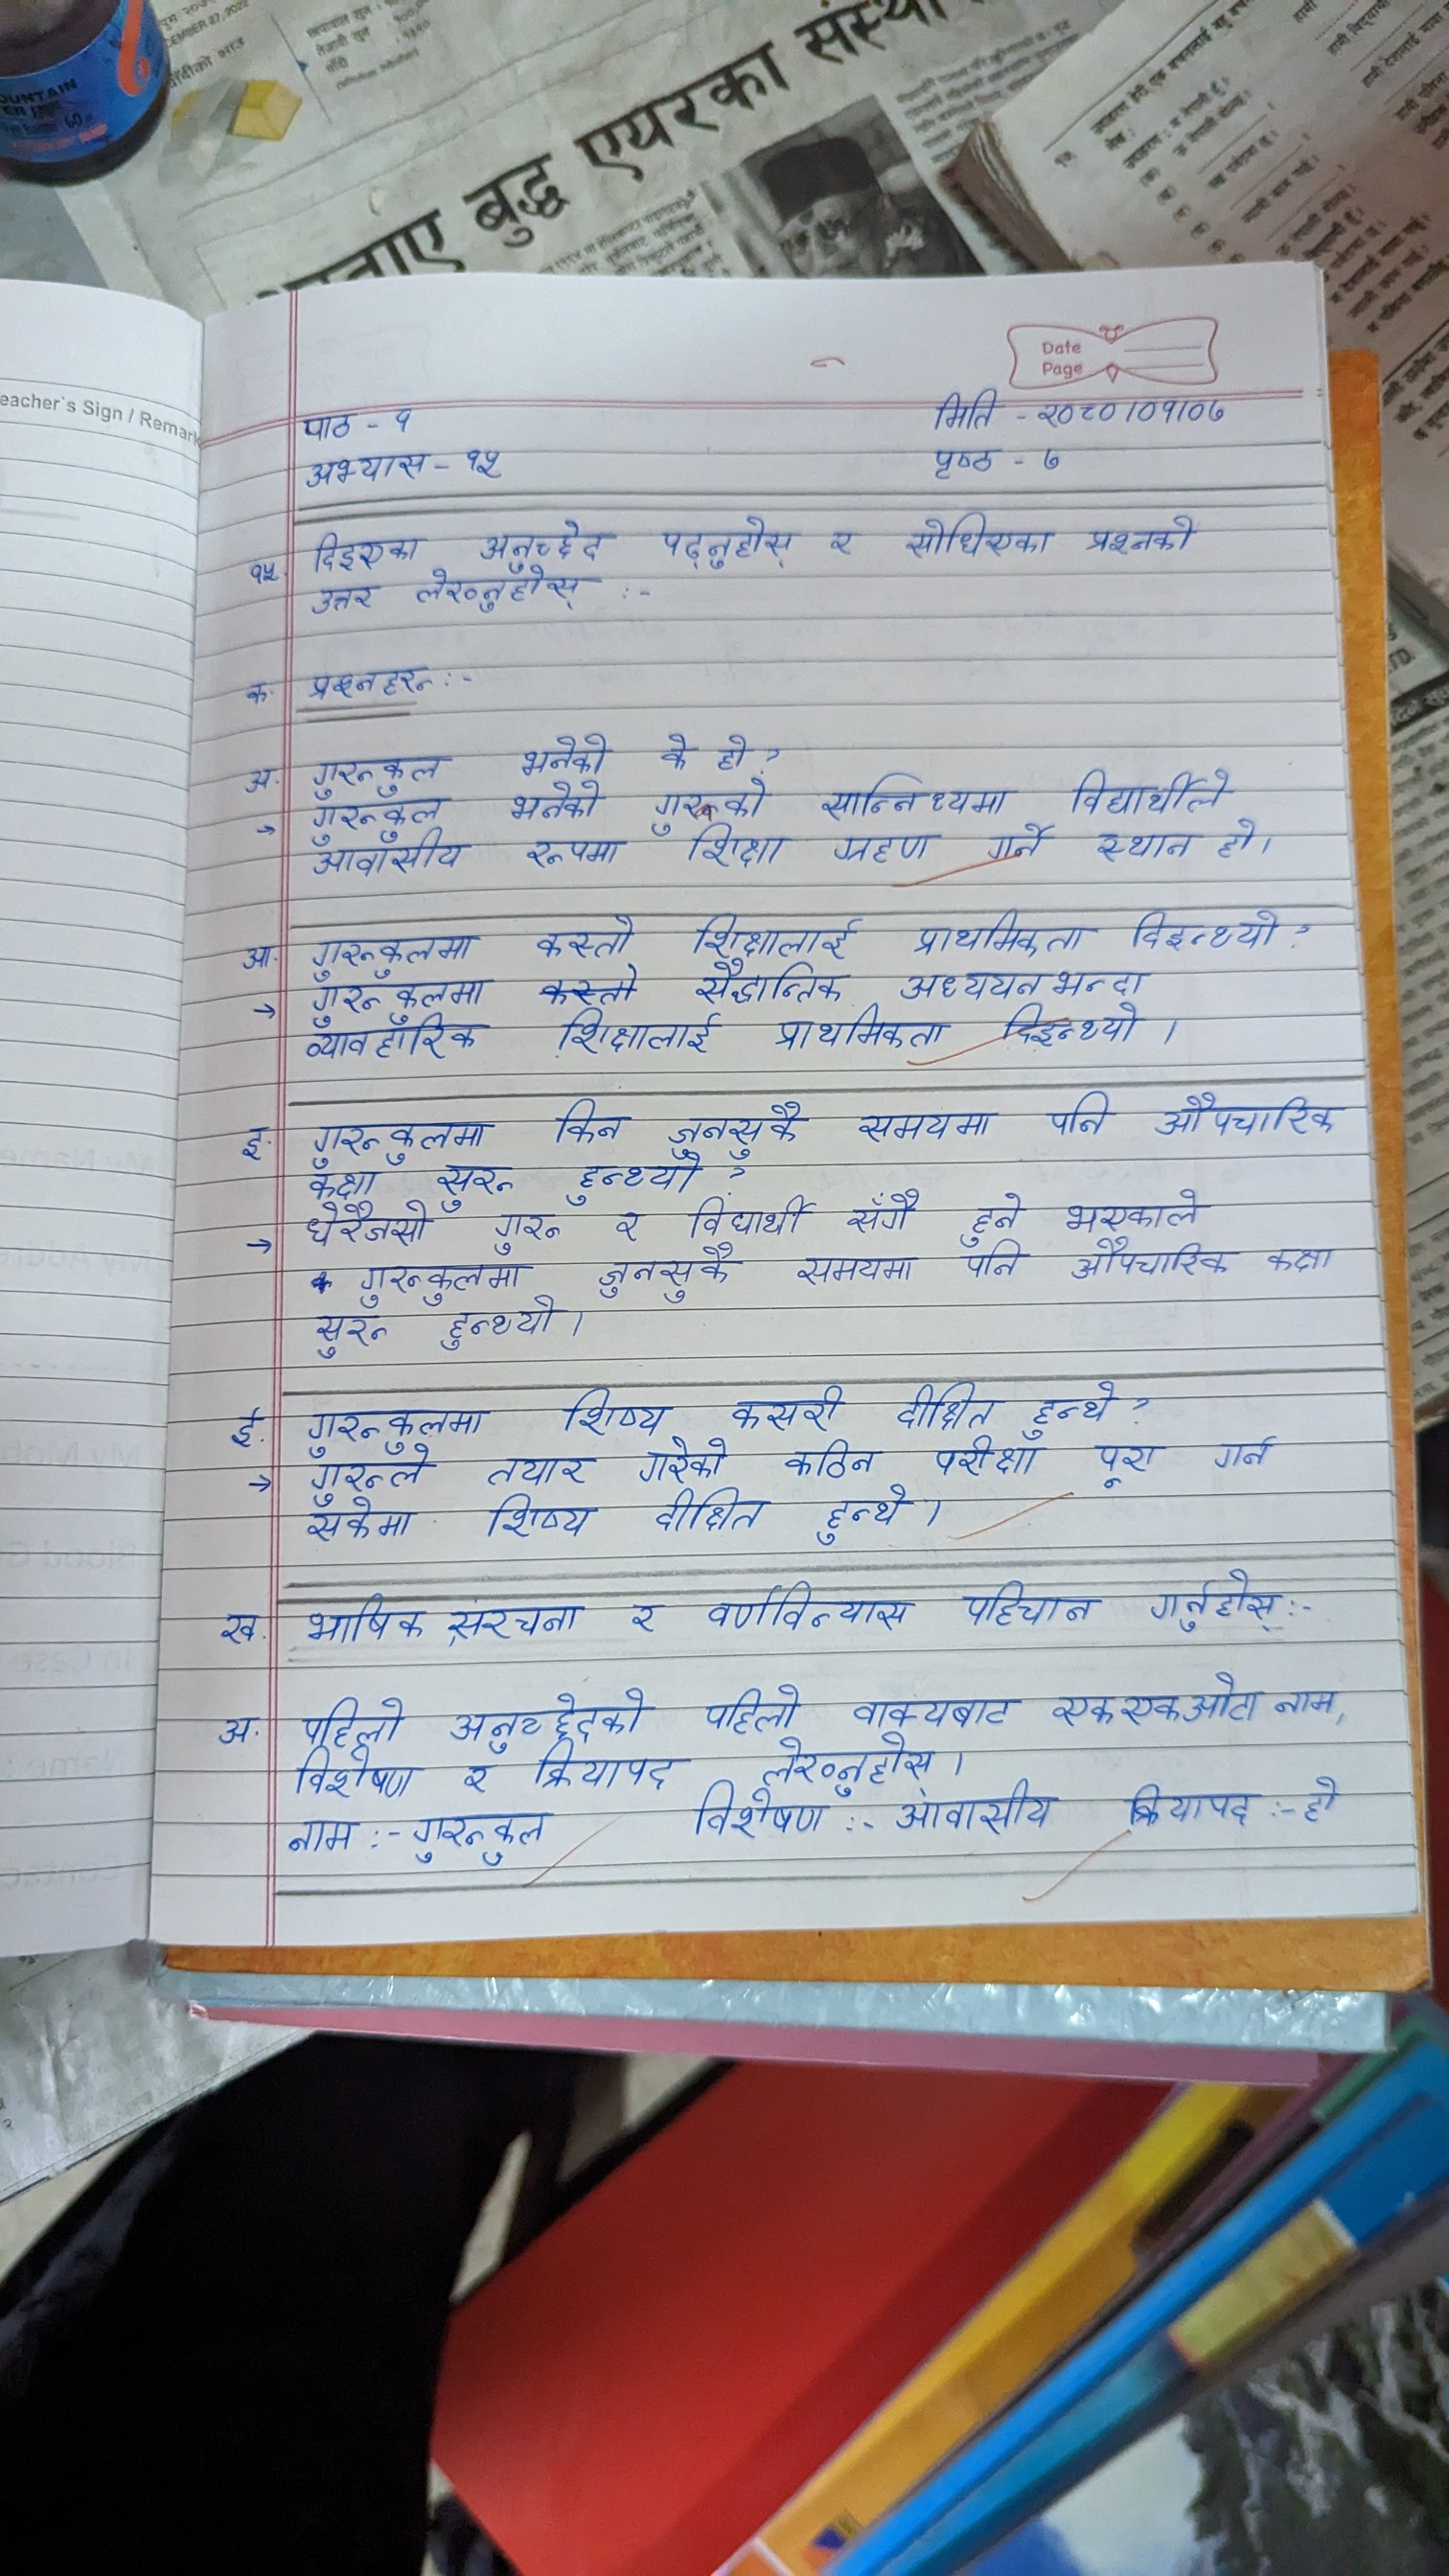text: (444, 1688, 655, 1741), (701, 1580, 915, 1631), (814, 768, 1014, 823), (1143, 1086, 1338, 1141), (1134, 1564, 1293, 1628), (895, 962, 1157, 1000), (1120, 1771, 1267, 1836), (902, 510, 1062, 570), (660, 508, 798, 577), (1060, 761, 1238, 812), (888, 1792, 1067, 1844), (686, 909, 863, 961), (775, 1005, 950, 1056), (754, 1739, 941, 1787), (403, 1810, 556, 1868), (297, 1019, 497, 1063), (548, 1008, 727, 1056), (904, 911, 1095, 955), (469, 511, 623, 566), (301, 1120, 499, 1162), (667, 1093, 807, 1152), (593, 1251, 750, 1302), (301, 929, 479, 973), (414, 571, 591, 616), (525, 1744, 683, 1794), (950, 1585, 1106, 1635), (1060, 1184, 1214, 1233), (1070, 1237, 1228, 1284), (299, 1407, 478, 1447), (354, 1260, 524, 1302), (695, 1792, 835, 1844), (1127, 904, 1283, 950), (844, 1690, 1026, 1729), (287, 1750, 423, 1801), (810, 1484, 918, 1548), (313, 978, 497, 1016), (996, 1003, 1145, 1047), (433, 1306, 570, 1353), (290, 1693, 412, 1746), (304, 754, 456, 796), (727, 1382, 853, 1433), (1079, 511, 1203, 563), (306, 1451, 439, 1499), (446, 1598, 582, 1644), (561, 1155, 706, 1198), (299, 1594, 423, 1644), (697, 962, 855, 1001), (313, 842, 469, 881), (692, 1681, 809, 1732), (508, 725, 623, 777), (853, 1102, 994, 1143), (1203, 1421, 1299, 1479), (1017, 1382, 1122, 1435), (306, 800, 458, 835), (649, 1491, 764, 1537), (301, 665, 449, 701), (683, 823, 793, 870), (483, 1495, 593, 1543), (308, 525, 421, 571), (299, 1205, 432, 1244), (554, 1387, 669, 1431), (883, 1382, 1001, 1424), (931, 1440, 1044, 1484), (304, 1504, 418, 1548), (649, 778, 766, 821), (791, 1247, 918, 1286), (529, 913, 639, 957), (536, 964, 655, 1005), (685, 1201, 812, 1238), (517, 830, 637, 869), (301, 449, 426, 487), (1185, 1667, 1261, 1727), (835, 1184, 927, 1233), (639, 1437, 731, 1486), (1033, 1085, 1118, 1138), (280, 1812, 373, 1859), (833, 826, 936, 869), (1090, 824, 1196, 865), (548, 1092, 623, 1146), (922, 441, 1007, 487), (311, 1313, 396, 1359), (955, 1187, 1031, 1238), (1047, 1684, 1118, 1736), (780, 1440, 878, 1477), (479, 1454, 591, 1486), (1037, 389, 1123, 430), (1085, 1440, 1161, 1486), (1293, 1771, 1348, 1835), (927, 386, 1005, 430), (510, 782, 602, 819), (485, 1210, 568, 1249), (290, 402, 363, 446), (428, 1166, 520, 1200), (1123, 1679, 1178, 1734), (985, 824, 1056, 867), (1272, 1681, 1345, 1721), (1260, 1237, 1336, 1274), (225, 1398, 267, 1461), (1182, 386, 1240, 430), (614, 1594, 669, 1640), (651, 725, 699, 775), (708, 727, 761, 771), (458, 439, 513, 481), (961, 1242, 1026, 1277), (308, 1168, 384, 1198), (212, 1606, 262, 1652), (306, 584, 379, 614), (225, 932, 280, 971), (1215, 819, 1258, 865), (826, 520, 865, 570), (212, 1706, 253, 1752), (244, 547, 285, 591), (230, 1122, 269, 1166), (242, 757, 280, 801), (237, 669, 272, 709), (1139, 393, 1178, 428), (609, 1207, 644, 1244), (458, 1764, 504, 1792), (393, 398, 423, 435), (1042, 444, 1067, 479)
